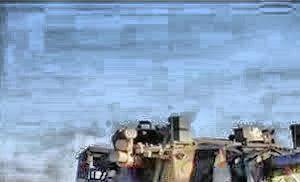tanks: (78, 118, 300, 182)
